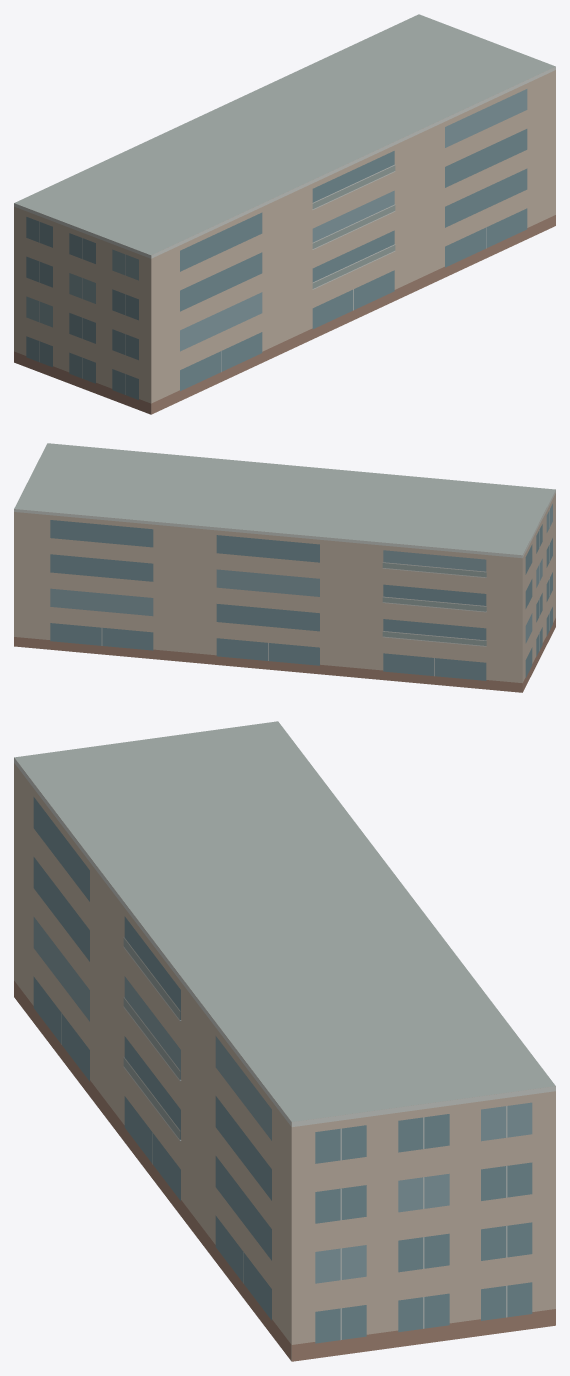
Rendered from survey-upis-32648066.glb.
The picture shows the model from 3 angles, top to bottom: view 1: azimuth 30°, elevation 25°; view 2: azimuth 150°, elevation 25°; view 3: azimuth 270°, elevation 25°; orthographic projection. The views are drawn at different scales.
Visible parts, largest first — view 1: survey-upis-32648066.tmp; view 2: survey-upis-32648066.tmp; view 3: survey-upis-32648066.tmp.
Boxes of the visible parts, <box> form: survey-upis-32648066.tmp: <box>14,14,555,414</box>; survey-upis-32648066.tmp: <box>14,443,555,692</box>; survey-upis-32648066.tmp: <box>14,721,555,1361</box>.
Size of the model in its own units: 40.55 by 11.3 by 23.17.
